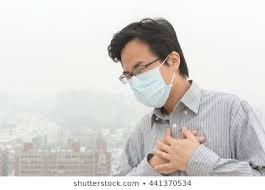mask: (105, 17, 188, 109)
